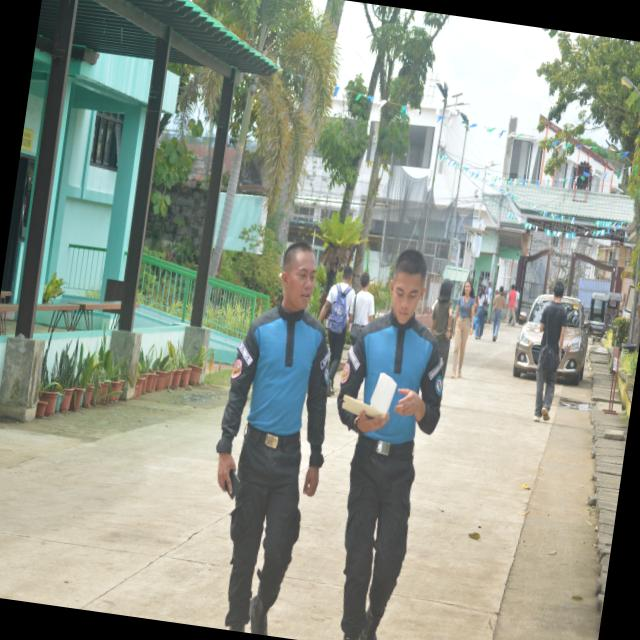person: (216, 242, 328, 634), (337, 250, 442, 639), (318, 266, 354, 395), (533, 281, 566, 421), (450, 281, 474, 378), (430, 279, 453, 379), (348, 273, 374, 344), (491, 286, 504, 341), (474, 286, 487, 339), (505, 285, 516, 325)
